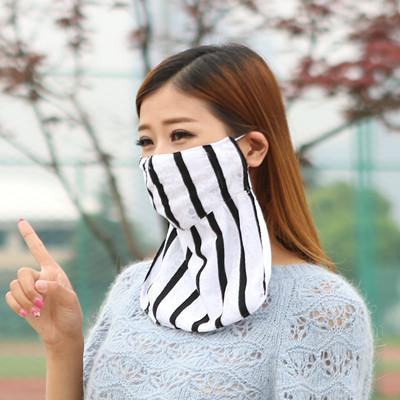OK: (137, 113, 236, 212)
